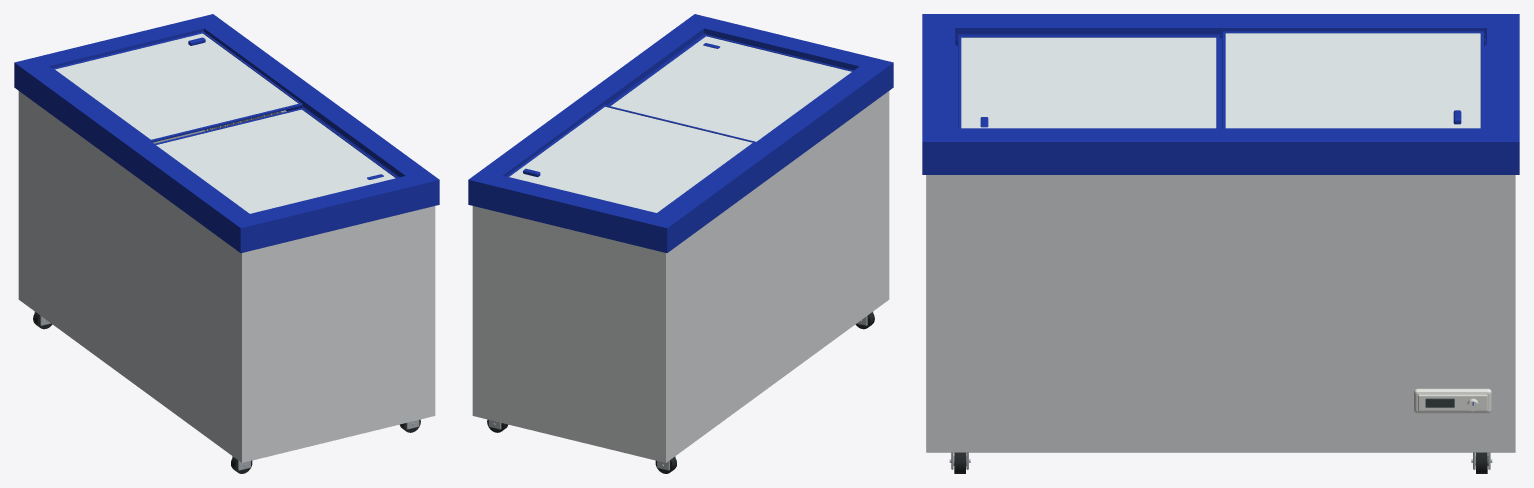
3 views of the same model, side by side, from view 1: azimuth 30°, elevation 25°; view 2: azimuth 150°, elevation 25°; view 3: azimuth 270°, elevation 25° (orthographic). The views are drawn at different scales.
Visible parts, largest first — view 1: visual_part_000_0_6, visual_part_000_0_4, visual_part_002_0_1, visual_part_001_0_1, visual_part_002_0_0, visual_part_001_0_0; view 2: visual_part_000_0_6, visual_part_000_0_4, visual_part_002_0_1, visual_part_001_0_1, visual_part_002_0_0, visual_part_001_0_0; view 3: visual_part_000_0_6, visual_part_000_0_4, visual_part_002_0_1, visual_part_001_0_1, visual_part_000_0_0, visual_part_002_0_0, visual_part_001_0_0.
Boxes of the visible parts, left/top/right/bottom form: visual_part_000_0_6: left=18, top=91, right=435, bottom=462; visual_part_000_0_4: left=14, top=14, right=439, bottom=252; visual_part_002_0_1: left=55, top=33, right=298, bottom=139; visual_part_001_0_1: left=156, top=109, right=395, bottom=213; visual_part_002_0_0: left=51, top=31, right=302, bottom=142; visual_part_001_0_0: left=154, top=107, right=397, bottom=179; visual_part_000_0_6: left=472, top=91, right=889, bottom=462; visual_part_000_0_4: left=468, top=14, right=893, bottom=252; visual_part_002_0_1: left=509, top=106, right=752, bottom=212; visual_part_001_0_1: left=611, top=36, right=851, bottom=141; visual_part_002_0_0: left=506, top=104, right=755, bottom=213; visual_part_001_0_0: left=608, top=34, right=853, bottom=106; visual_part_000_0_6: left=926, top=175, right=1515, bottom=452; visual_part_000_0_4: left=922, top=14, right=1519, bottom=174; visual_part_002_0_1: left=1225, top=33, right=1480, bottom=128; visual_part_001_0_1: left=961, top=37, right=1216, bottom=128; visual_part_000_0_0: left=1414, top=388, right=1491, bottom=413; visual_part_002_0_0: left=1222, top=31, right=1483, bottom=128; visual_part_001_0_0: left=958, top=35, right=1219, bottom=128.
Size of the model in its own units: 0.7485 by 0.897 by 1.42.
